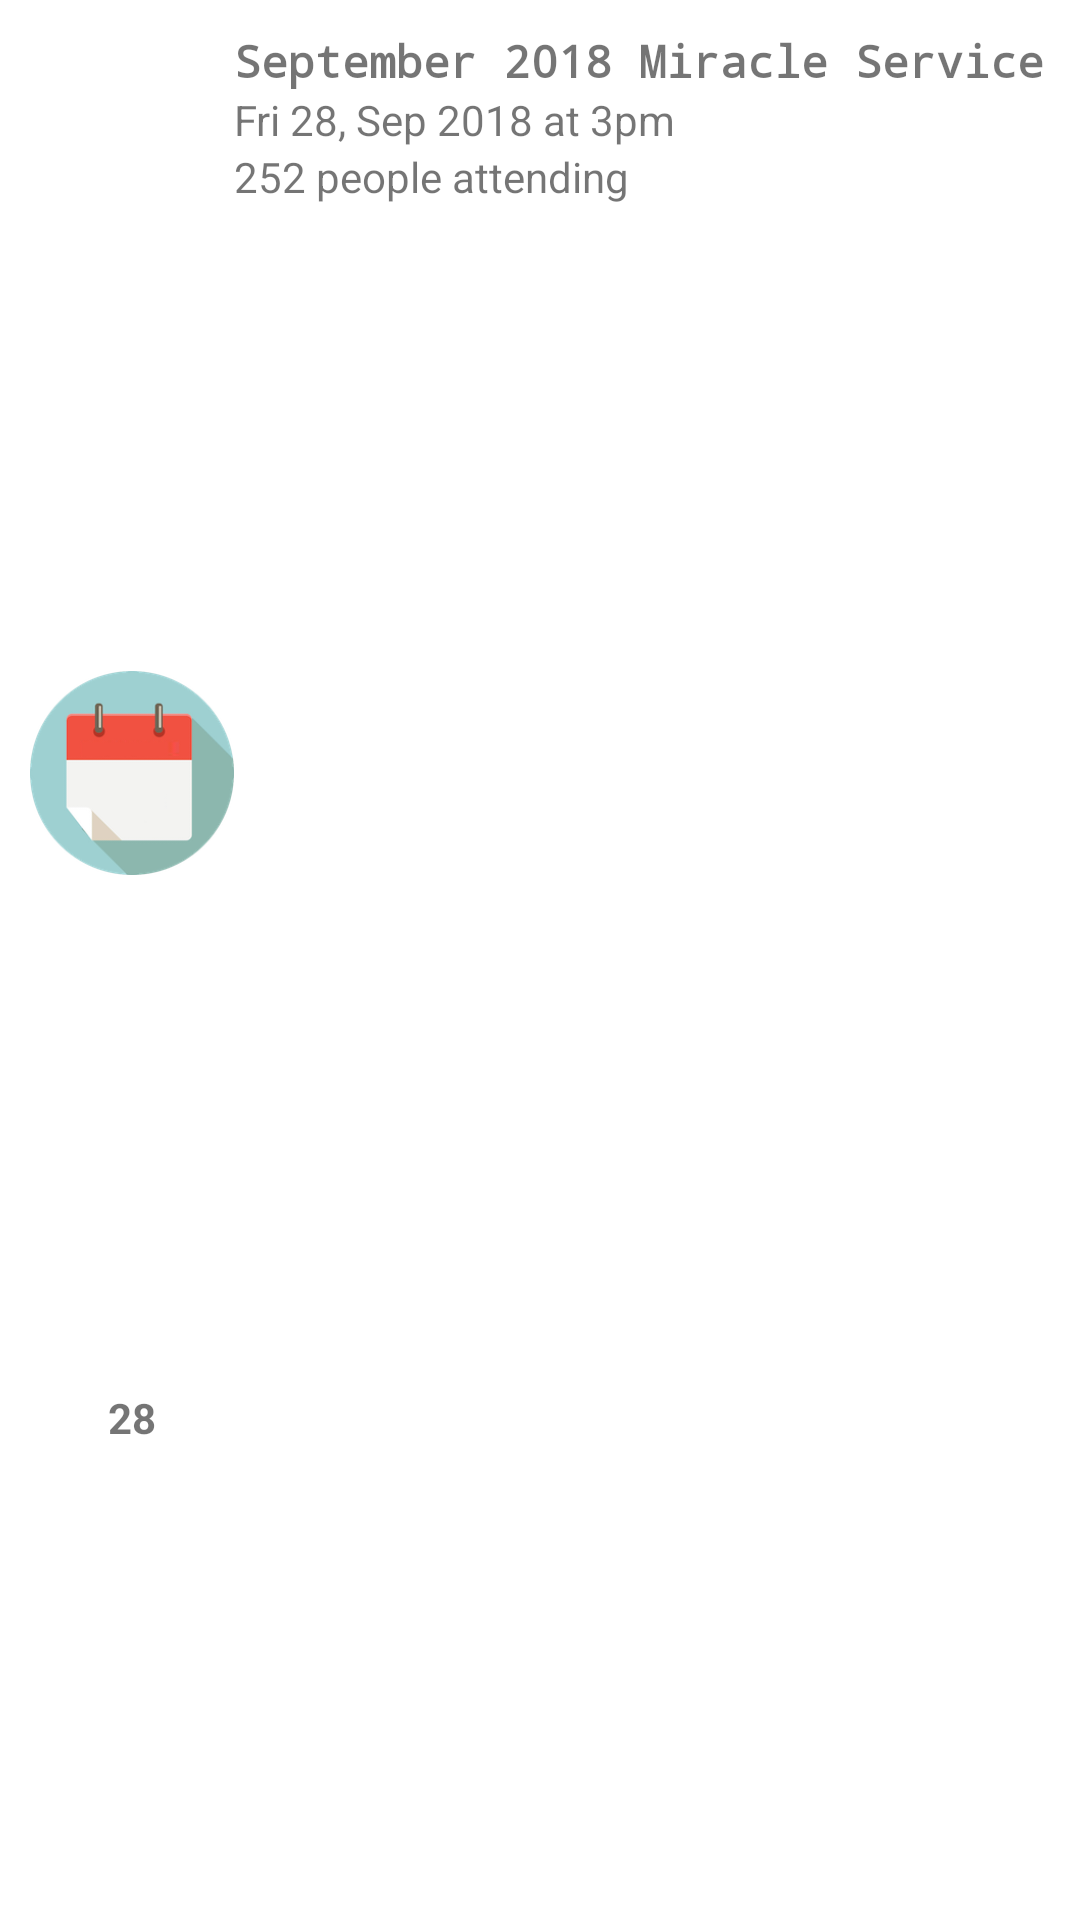

Icons on this 1080px×1920px Android screen, each with its box as (x1, y1, x2, y2):
Date Image: (30, 671, 234, 875)
